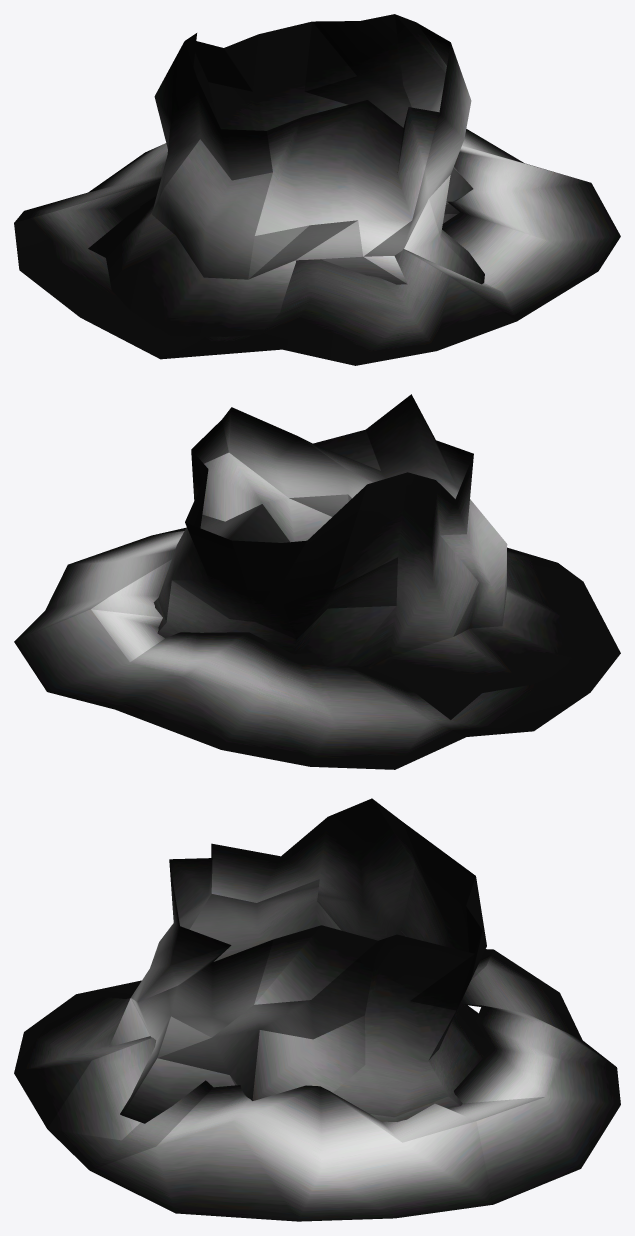
File: vfx_kurp_0399.dae
The picture shows the model from 3 angles, top to bottom: view 1: azimuth 30°, elevation 25°; view 2: azimuth 150°, elevation 25°; view 3: azimuth 270°, elevation 25°; orthographic projection. The views are drawn at different scales.
Visible parts, largest first — view 1: vfx_kurp_0399; view 2: vfx_kurp_0399; view 3: vfx_kurp_0399.
Boxes of the visible parts, x1=… form: vfx_kurp_0399: x1=14, y1=14, x2=620, y2=365; vfx_kurp_0399: x1=14, y1=394, x2=620, y2=769; vfx_kurp_0399: x1=14, y1=798, x2=620, y2=1221.
Bounding box in the file's own units: 10.94 × 10.22 × 4.49.
1 material, 1 textured.
